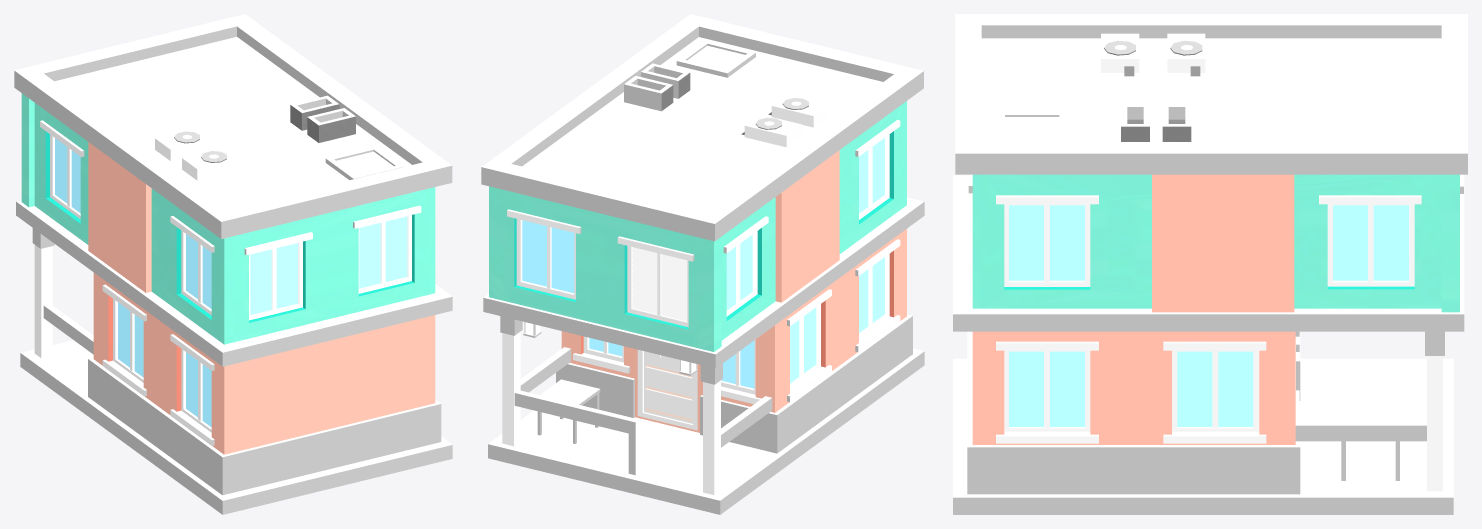
File: dwelling.001.glb
The picture shows the model from 3 angles, left to right: view 1: azimuth 30°, elevation 25°; view 2: azimuth 150°, elevation 25°; view 3: azimuth 270°, elevation 25°; orthographic projection. The views are drawn at different scales.
Visible parts, largest first — view 1: dwelling.001(Clone); view 2: dwelling.001(Clone); view 3: dwelling.001(Clone).
Boxes of the visible parts, <box> form: dwelling.001(Clone): <box>14,14,452,514</box>; dwelling.001(Clone): <box>481,14,924,514</box>; dwelling.001(Clone): <box>953,14,1467,514</box>.
Size of the model in its own units: 4.92 by 6.1 by 7.67.
1 material, 1 textured.
